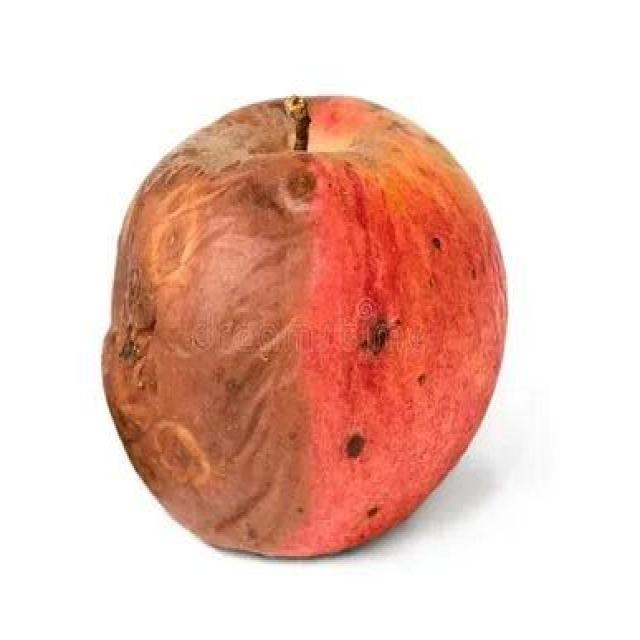Rotten Apple: (101, 94, 506, 560)
